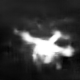plane: (14, 24, 76, 69)
